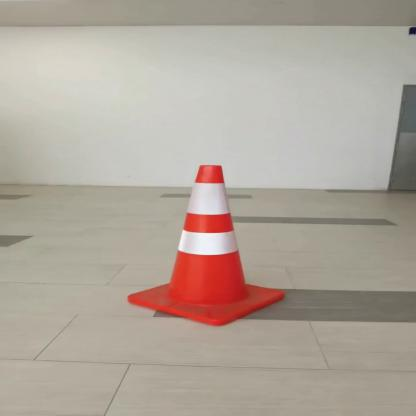cone: (102, 162, 298, 325)
